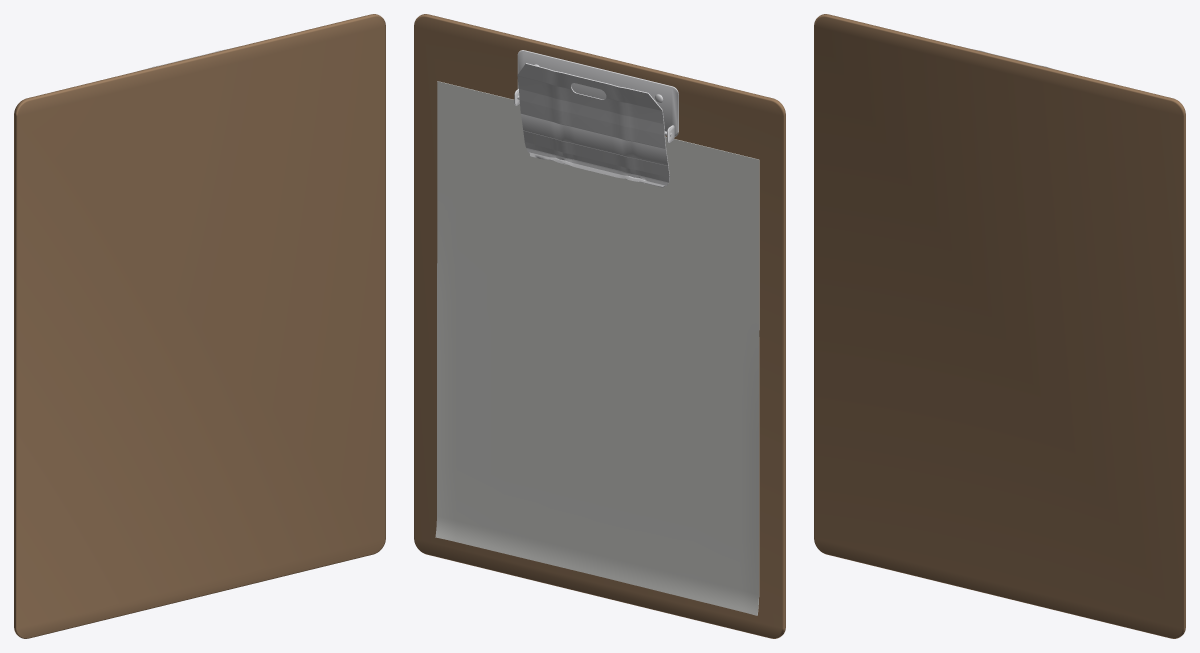
File: Inspect_Clipboard.fbx
The picture shows the model from 3 angles, left to right: view 1: azimuth 30°, elevation 25°; view 2: azimuth 150°, elevation 25°; view 3: azimuth 330°, elevation 25°; orthographic projection.
Parts seen in each view (by area): view 1: Inspect_Clipboard; view 2: Inspect_Clipboard; view 3: Inspect_Clipboard.
Boxes of the visible parts, left/top/right/bottom form: Inspect_Clipboard: left=14, top=14, right=385, bottom=638; Inspect_Clipboard: left=414, top=14, right=785, bottom=638; Inspect_Clipboard: left=814, top=14, right=1185, bottom=638.
Bounding box in the file's own units: 0.23 × 0.32 × 0.0166.
